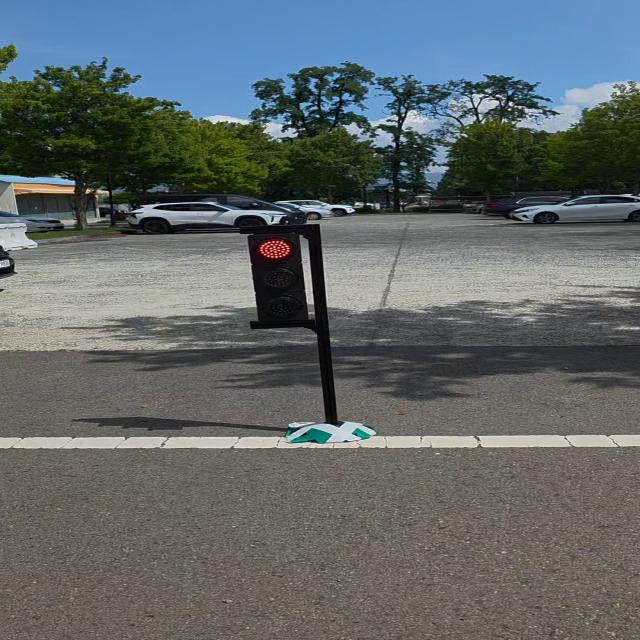red: (243, 228, 313, 330)
